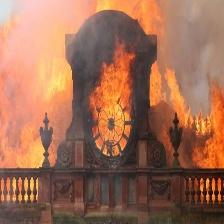fire: (3, 2, 224, 205)
